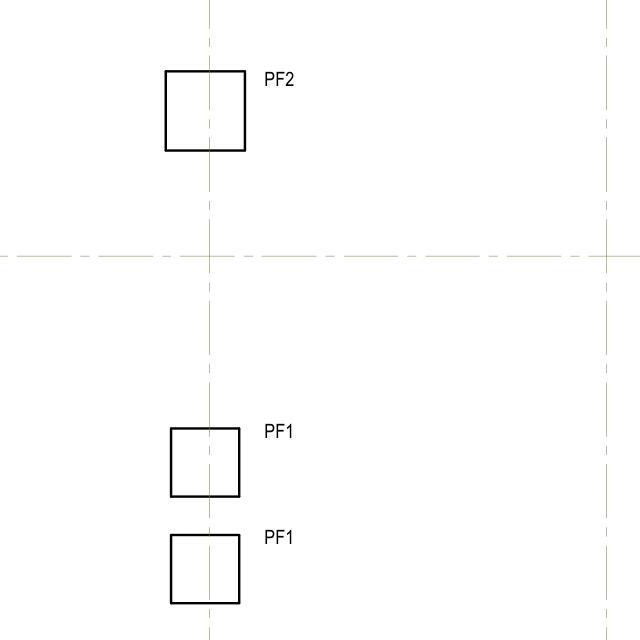PF1: (243, 404, 299, 447), (260, 512, 299, 551)
PF2: (252, 49, 315, 96)
